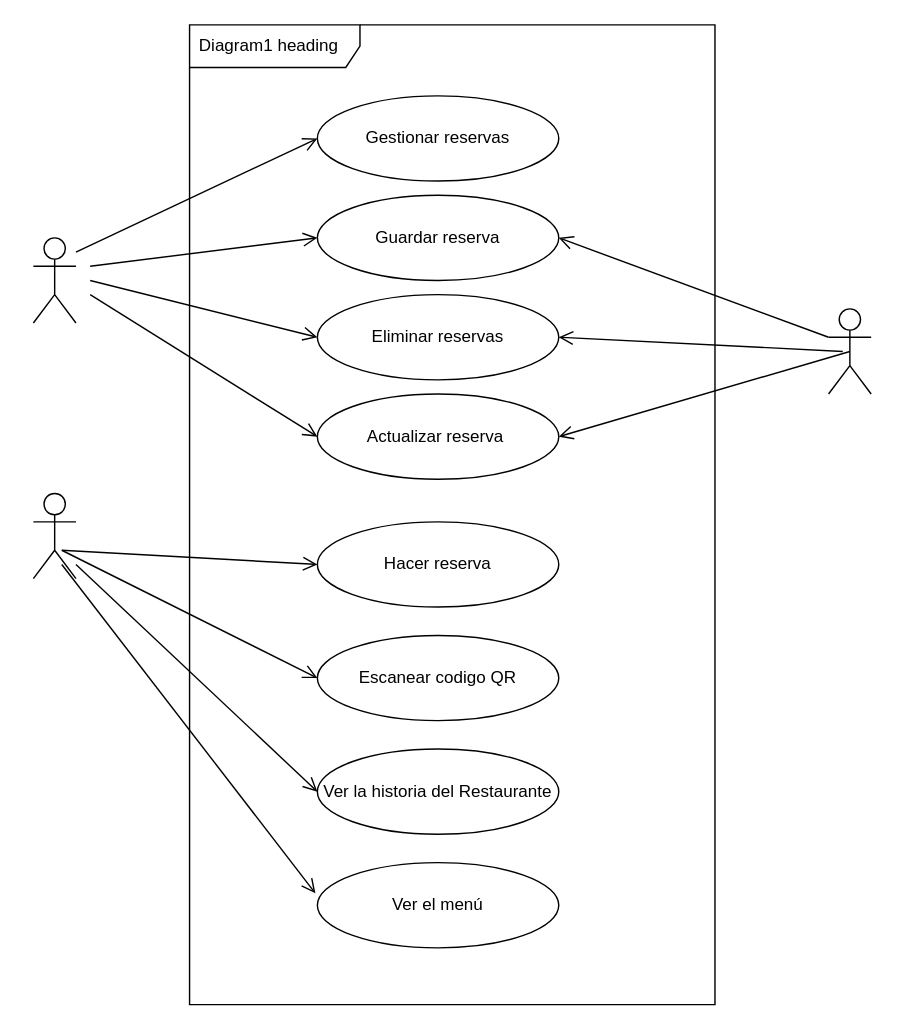
Image size: 905x1030. Some labels were removed from this diagram. The box of each missing label's shape, as (x1, y1, x2, y2) in pixels:
Cliente: (32, 492, 76, 579)
Gerente: (32, 236, 76, 323)
Sistema: (827, 307, 871, 394)
